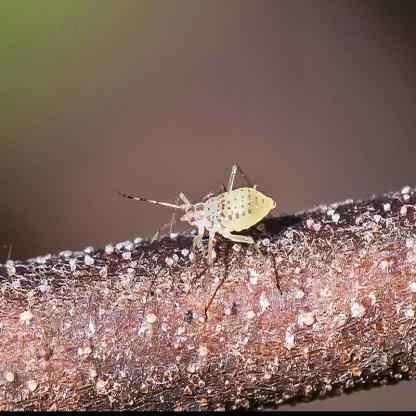aphid: (131, 161, 280, 306)
